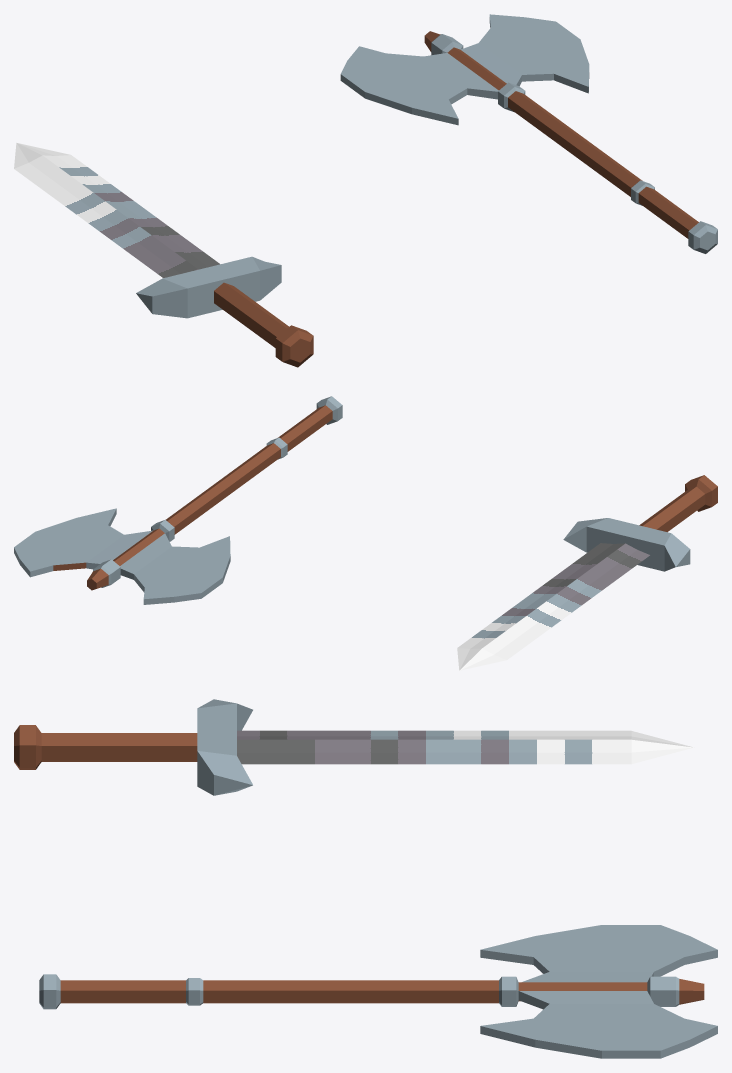
Rendered from axe.glb.
3 views of the same model, one above another, from view 1: azimuth 30°, elevation 25°; view 2: azimuth 150°, elevation 25°; view 3: azimuth 270°, elevation 25° (orthographic). The views are drawn at different scales.
Visible parts, largest first — view 1: Sword, Sword.001; view 2: Sword, Sword.001; view 3: Sword, Sword.001.
Part boxes in pixels (x1,y1,x2,y2): Sword: [340, 14, 717, 253]; Sword.001: [14, 143, 313, 367]; Sword: [14, 396, 342, 604]; Sword.001: [457, 475, 717, 670]; Sword: [39, 925, 717, 1058]; Sword.001: [14, 699, 693, 795].
Bounding box in the file's own units: 1.41 × 0.0858 × 1.22.
1 material, 1 textured.
